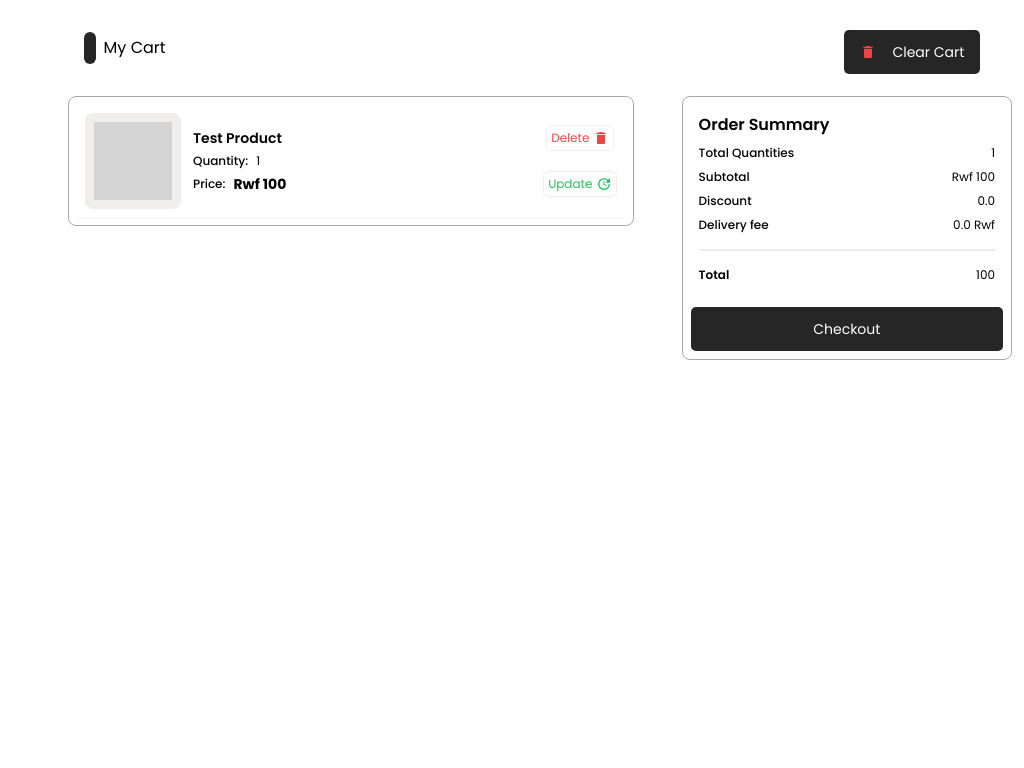
Test: UserCart Component › opens and closes update modal
// Click the update button
Click the element with test id "update-quantity-button". click: (580, 184)
box: [543,171,617,197]
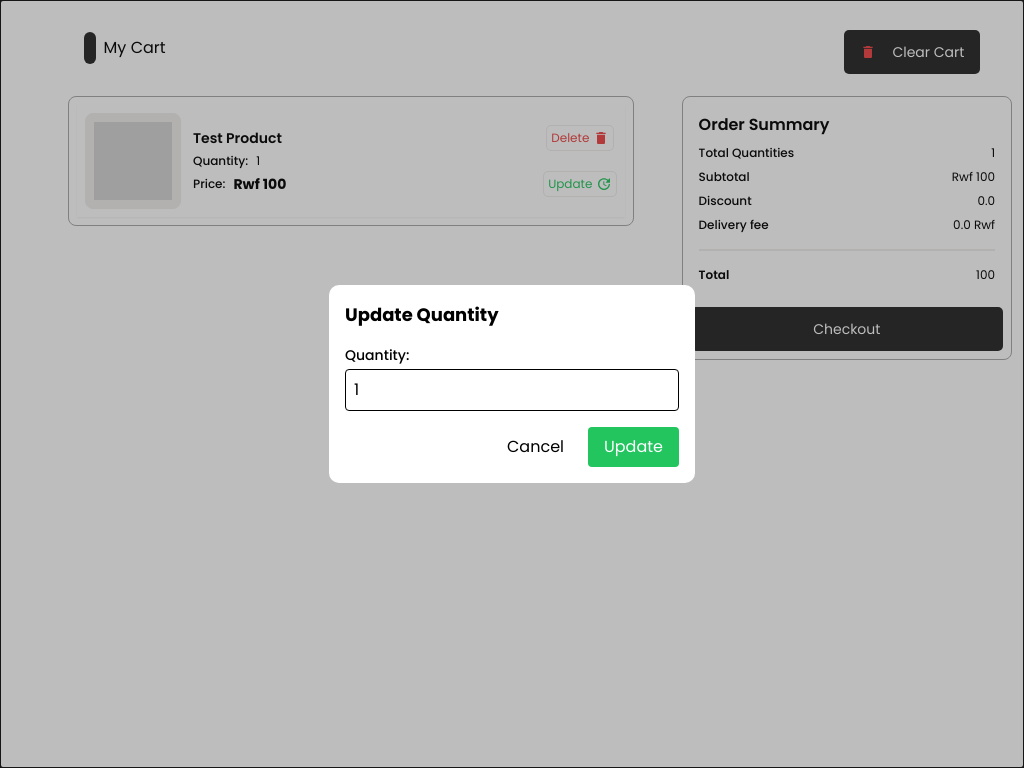
Check: the heading "Update Quantity" is shown, box [345,302,498,327]
// Click the cancel button
Click the button with test id "modal-cancel-button". click: (634, 447)
box: [588,427,679,467]
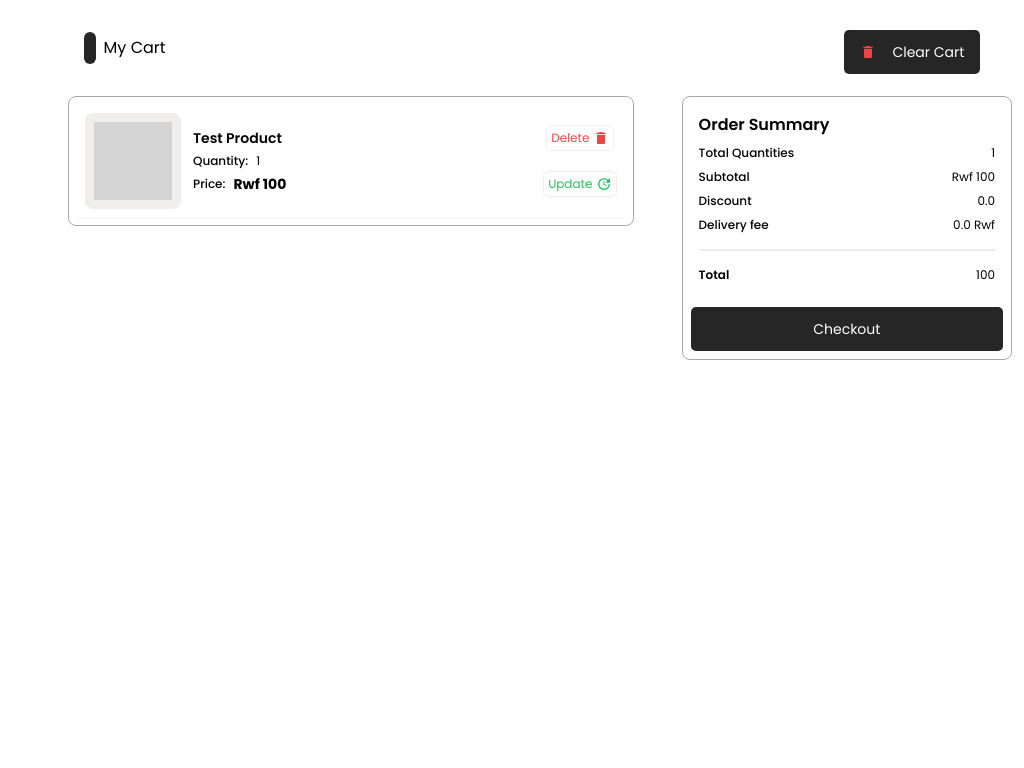
Check: the heading "Update Quantity" is gone
